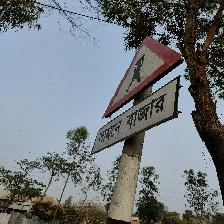Market-in-front: (91, 34, 184, 156)
